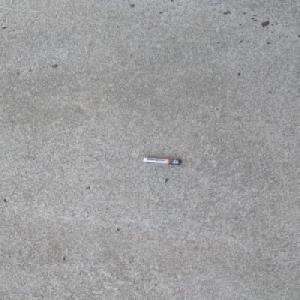Battery: (141, 156, 182, 165)
